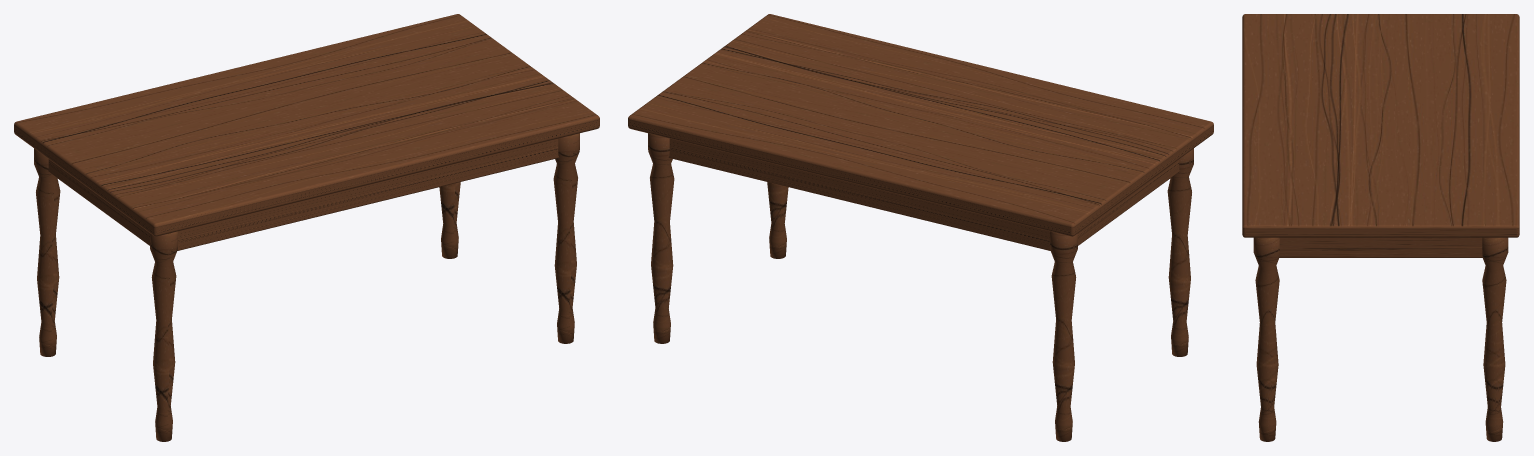
Rendered from mesa-retangular-pes-torneados.glb.
3 views of the same model, side by side, from view 1: azimuth 30°, elevation 25°; view 2: azimuth 150°, elevation 25°; view 3: azimuth 270°, elevation 25° (orthographic). The views are drawn at different scales.
Visible parts, largest first — view 1: table; view 2: table; view 3: table.
Part boxes in pixels (<box>): table: <box>14,14,599,441</box>; table: <box>628,14,1213,441</box>; table: <box>1242,14,1519,441</box>.
Size of the model in its own units: 1.6 by 0.7825 by 0.88.
1 material, 1 textured.
